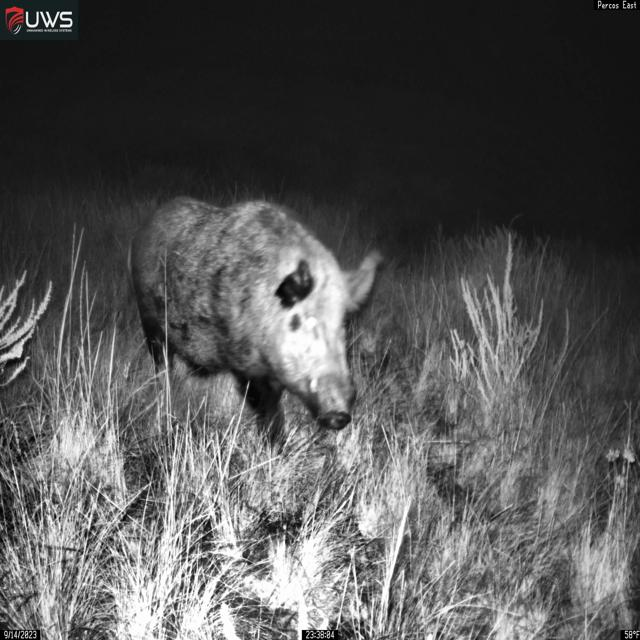pig: (127, 195, 383, 459)
